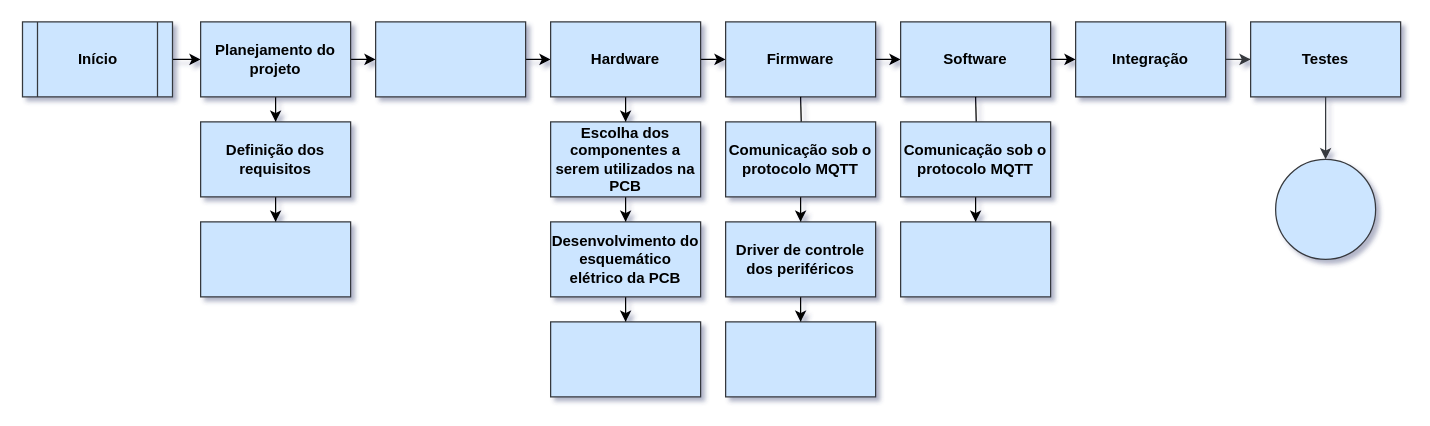
This 1430x426 diagram has some shape labels left out. Here are the shapes that lost their labels. From the top down, the box of each, then its label:
(374, 21, 526, 97): Aquisição de material para desenvolvimento
(1274, 158, 1376, 259): Fim
(199, 221, 351, 297): Estudo de tecnologias a serem utilizadas
(899, 221, 1051, 297): Desenvolvimento das funcionalidades de acesso ao hardware
(549, 321, 701, 397): Desenvolvimento do layout da PCB
(724, 321, 876, 397): Monitoramento dos sensores
